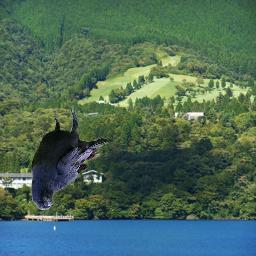Crow: (32, 106, 109, 211)
